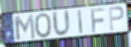F: (89, 7, 106, 34)
I: (77, 8, 84, 36)
M: (13, 13, 37, 41)
O: (34, 12, 53, 39)
P: (108, 6, 126, 33)
U: (51, 9, 72, 38)
